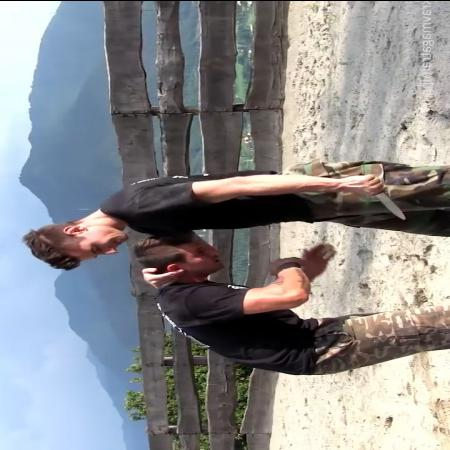long weapon: (350, 170, 412, 222)
